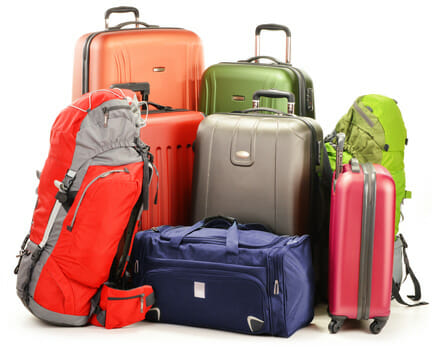backpack: (12, 87, 155, 331), (134, 219, 319, 339)
luggage: (192, 89, 324, 228), (61, 6, 206, 105), (329, 132, 396, 336), (198, 20, 318, 114)
